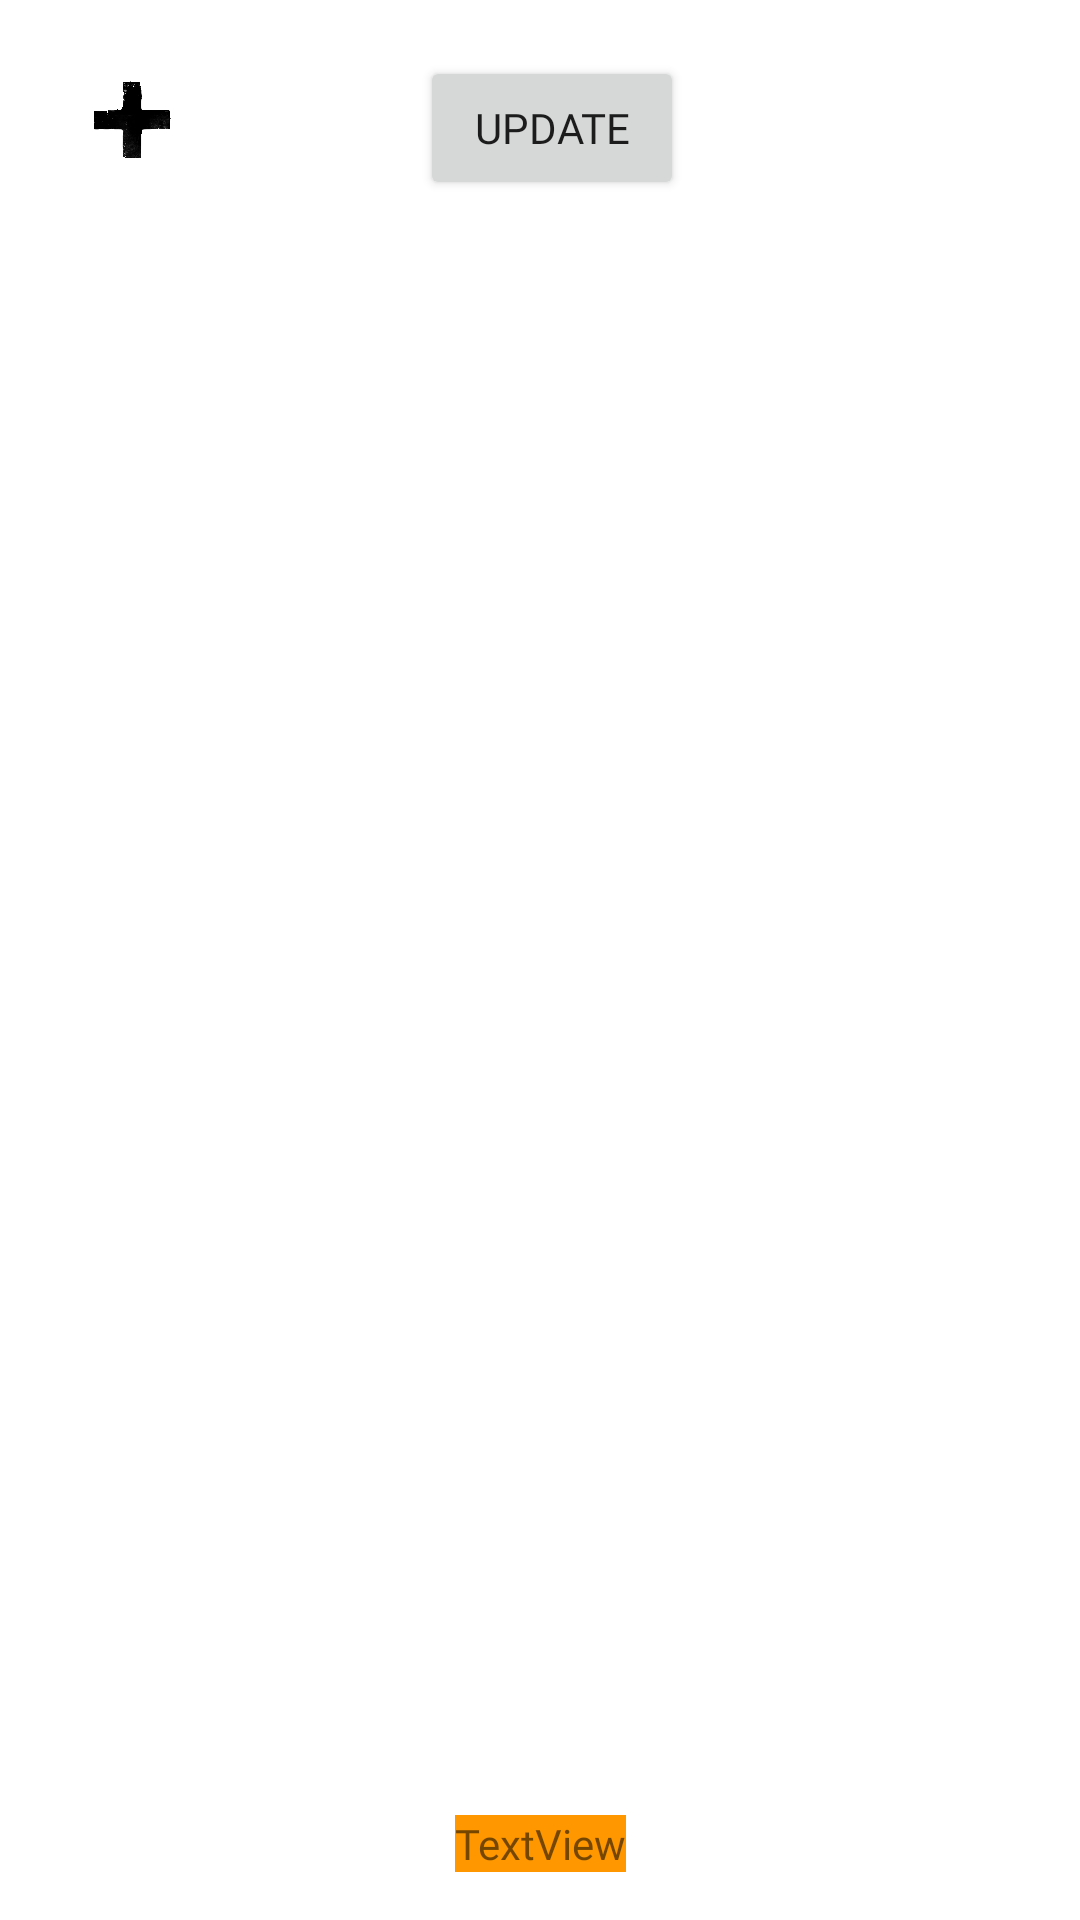

Locate icon controls on the screen. Image size 1080px×1920px, boxes as bbox=[x1, y1, x2, y2].
plus: bbox=[94, 81, 171, 158]
